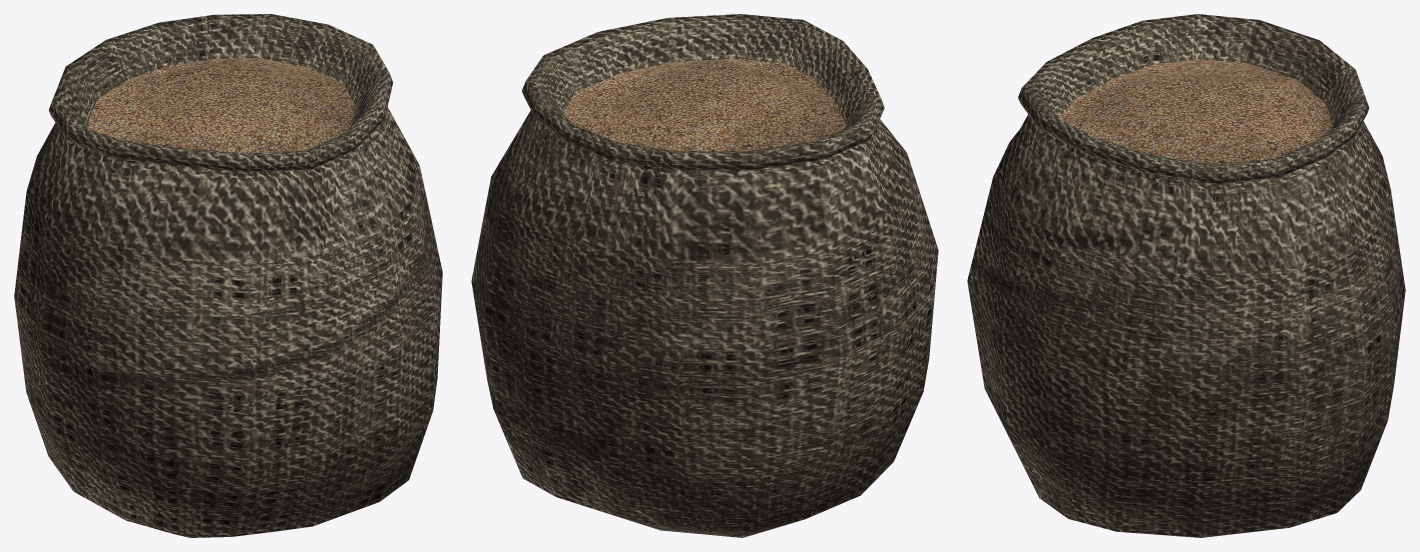
File: Sack_Seed.FBX
The picture shows the model from 3 angles, left to right: view 1: azimuth 30°, elevation 25°; view 2: azimuth 150°, elevation 25°; view 3: azimuth 270°, elevation 25°; orthographic projection.
Visible parts, largest first — view 1: mesh; view 2: mesh; view 3: mesh.
Boxes of the visible parts, x1,y1,x2,y2 form: mesh: (14, 14, 442, 537); mesh: (471, 14, 938, 537); mesh: (967, 14, 1405, 537).
Bounding box in the file's own units: 63.93 × 63.3 × 65.7.
